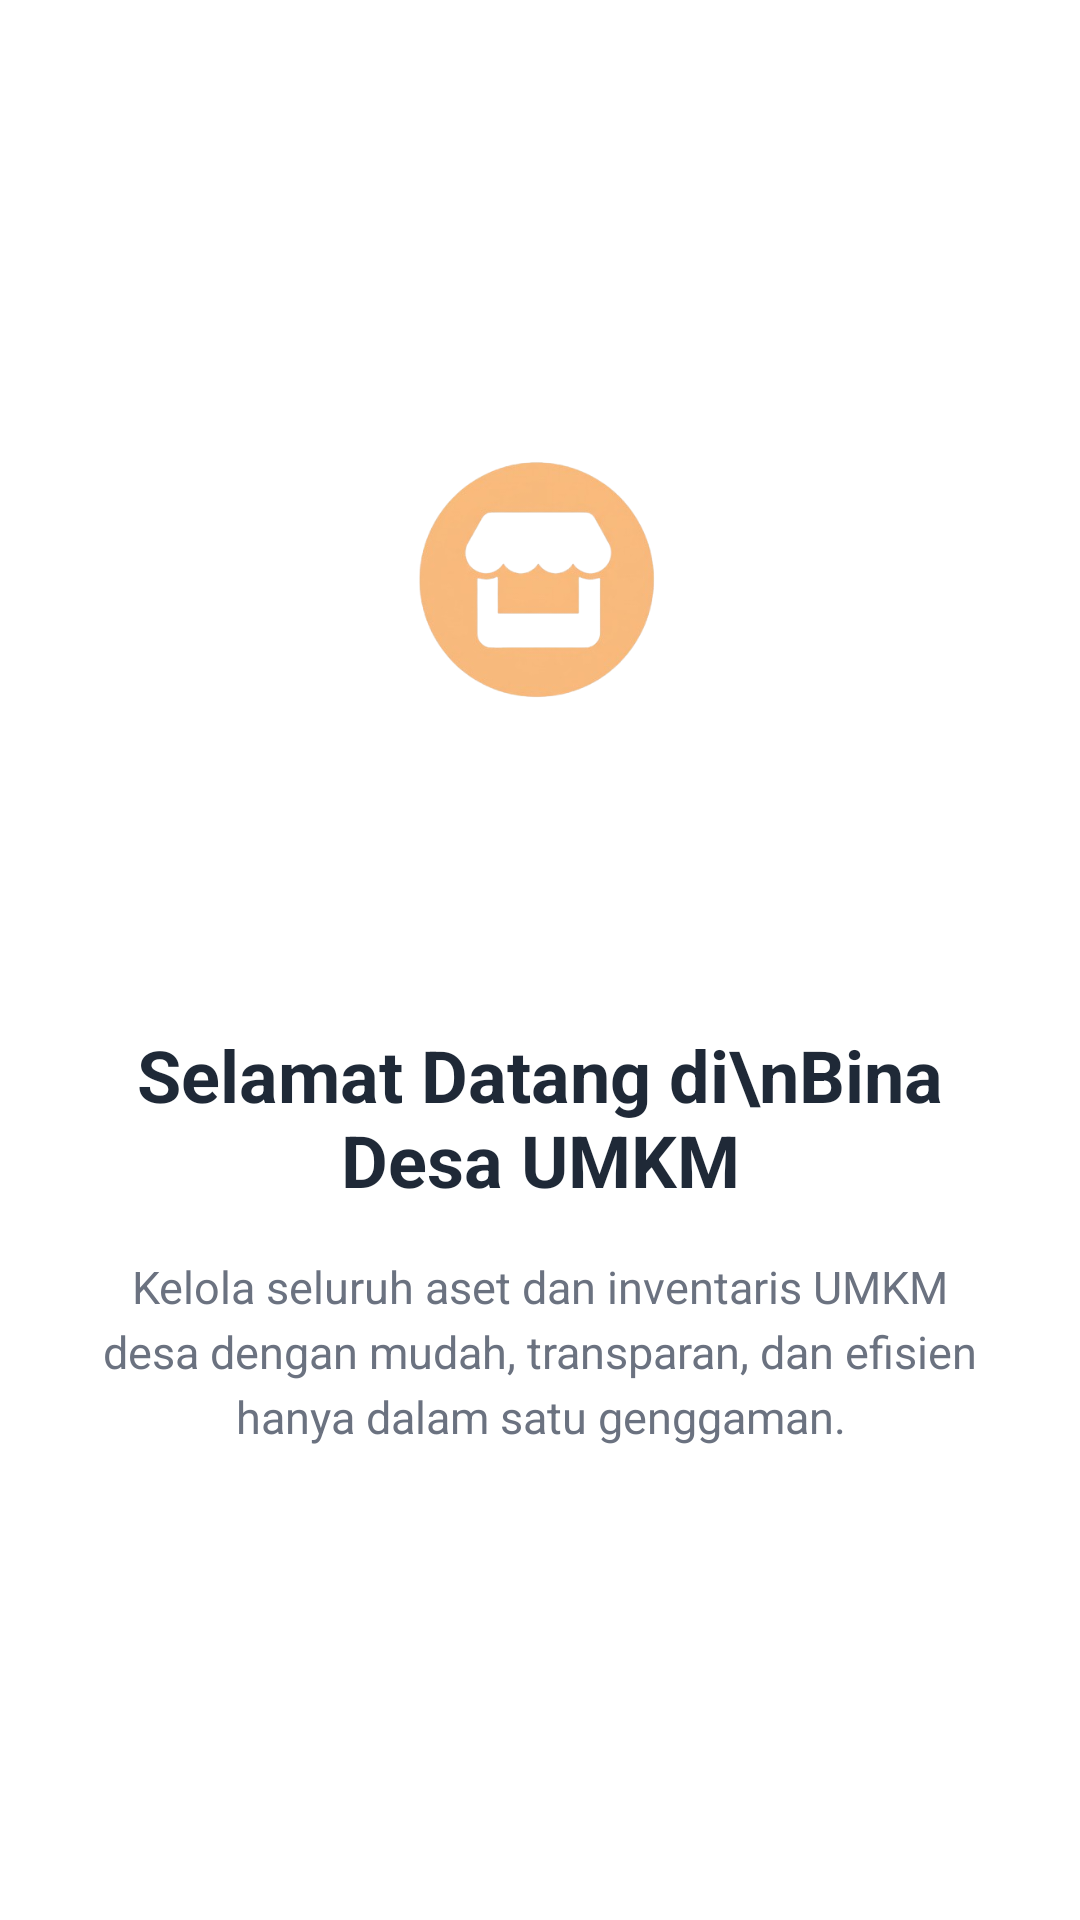

Where icons sit on this 1080w x 1920h app screen, as rect(x1, y1, x2, y2):
umkm: rect(419, 462, 654, 697)
